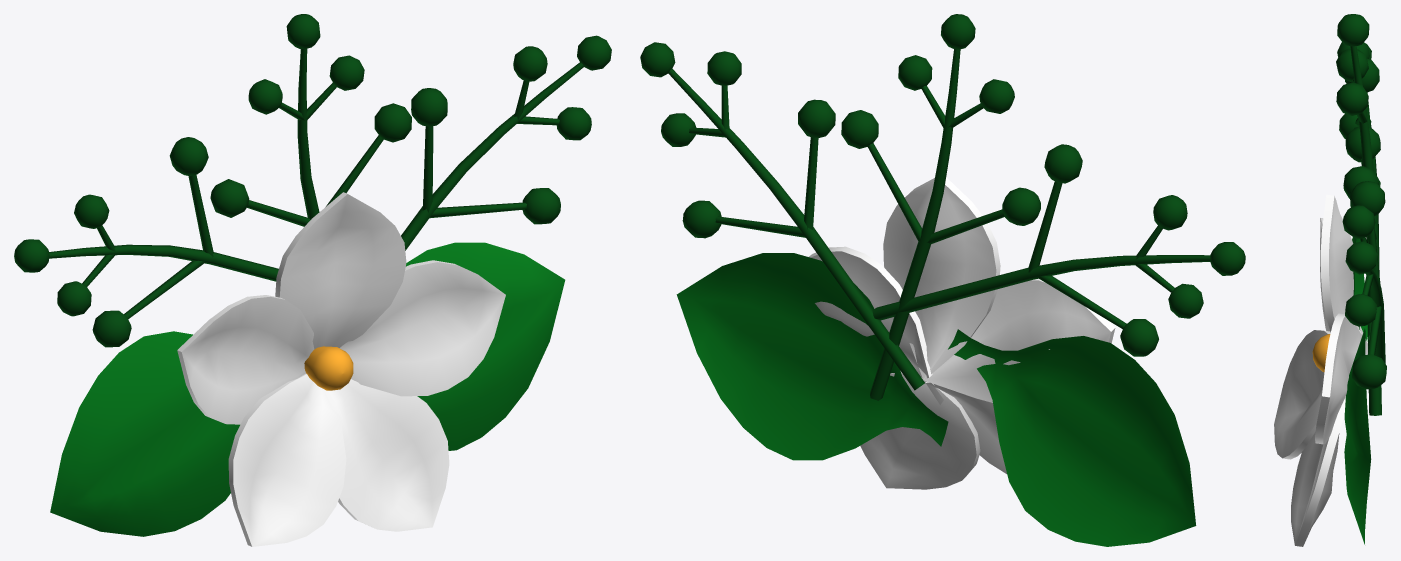
The model's file is Cake_items_Flower-A.FBX.
The picture shows the model from 3 angles, left to right: view 1: azimuth 30°, elevation 25°; view 2: azimuth 150°, elevation 25°; view 3: azimuth 270°, elevation 25°; orthographic projection. The views are drawn at different scales.
Parts seen in each view (by area): view 1: Cake_items_Flower-A; view 2: Cake_items_Flower-A; view 3: Cake_items_Flower-A.
Part boxes in pixels (<box>): Cake_items_Flower-A: <box>14,14,611,546</box>; Cake_items_Flower-A: <box>640,14,1245,546</box>; Cake_items_Flower-A: <box>1274,14,1386,546</box>.
Size of the model in its own units: 3030 by 2500 by 526.
